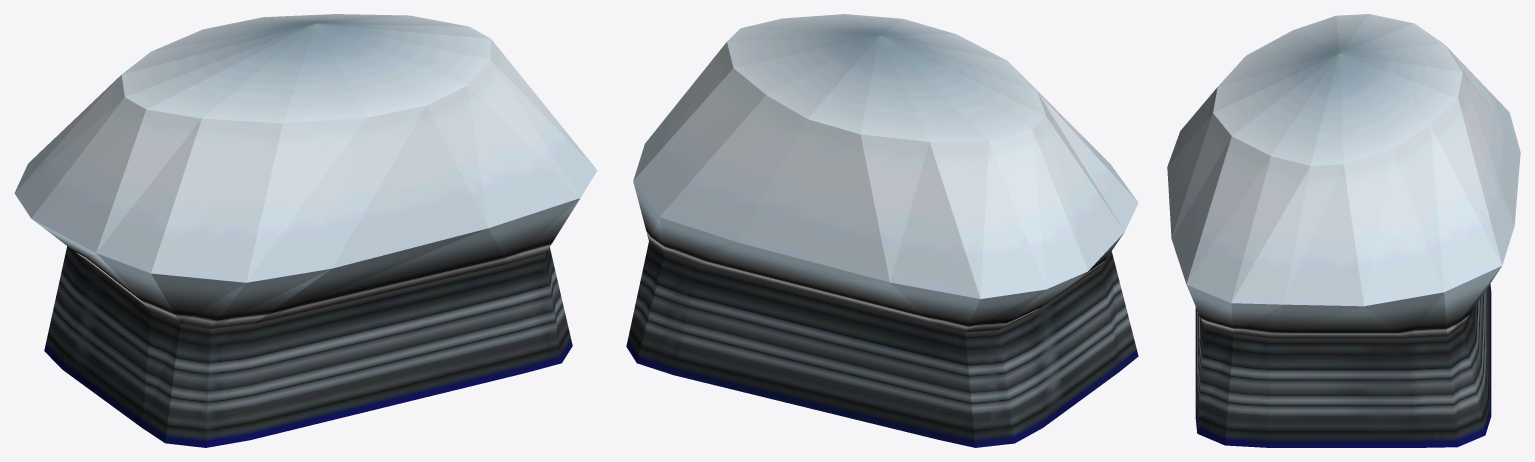
Rendered from Ministerium_Kuppel2_2508.glb.
The picture shows the model from 3 angles, left to right: view 1: azimuth 30°, elevation 25°; view 2: azimuth 150°, elevation 25°; view 3: azimuth 270°, elevation 25°; orthographic projection. The views are drawn at different scales.
Parts seen in each view (by area): view 1: pSphereShape2; view 2: pSphereShape2; view 3: pSphereShape2.
Boxes of the visible parts, box(x1,y1,x2,y2) form: pSphereShape2: box(14, 14, 597, 447); pSphereShape2: box(626, 14, 1138, 447); pSphereShape2: box(1167, 14, 1520, 447).
Bounding box in the file's own units: 1.75 × 1.13 × 1.19.
Materials: 1 (1 with a texture image).
